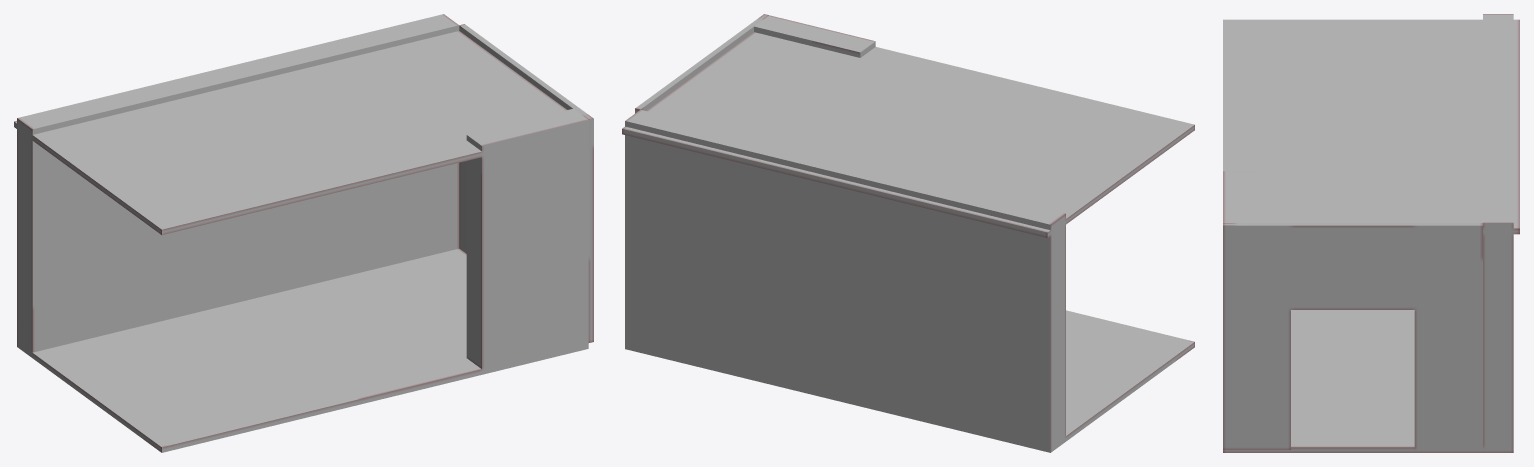
The model's file is StairConnector2.fbx.
3 renders of one model, left to right at view 1: azimuth 30°, elevation 25°; view 2: azimuth 150°, elevation 25°; view 3: azimuth 270°, elevation 25°, orthographic.
Parts seen in each view (by area): view 1: StairConnector.001; view 2: StairConnector.001; view 3: StairConnector.001.
Part boxes in pixels (<box>): StairConnector.001: <box>14,14,593,452</box>; StairConnector.001: <box>622,14,1194,452</box>; StairConnector.001: <box>1223,14,1519,452</box>.
Size of the model in its own units: 810 by 410 by 480.
